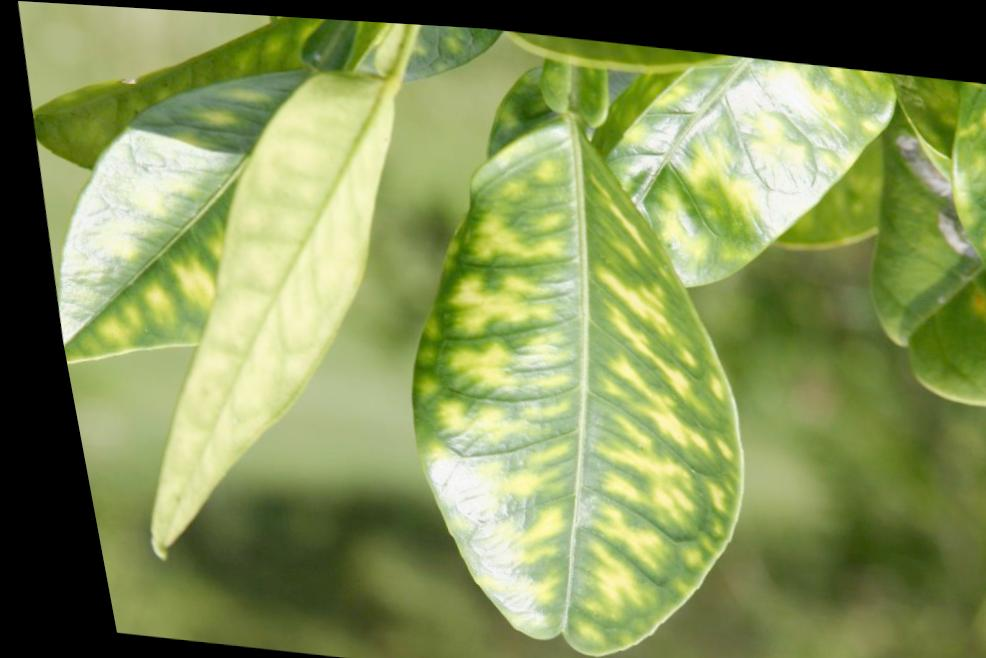Citrus Greening: (331, 101, 786, 658), (5, 33, 392, 388), (550, 29, 919, 299)
